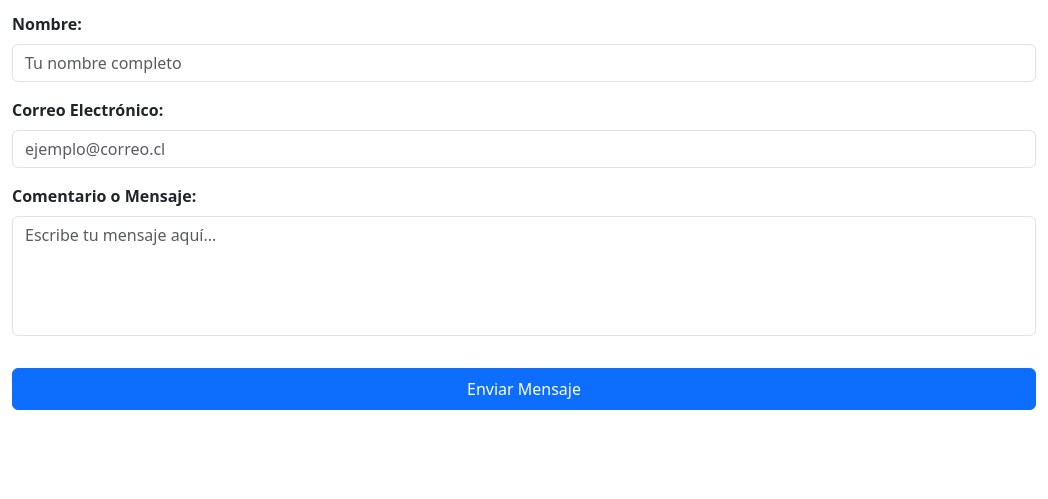
Test case: 10. FormularioContacto muestra error en pantalla si el correo está vacío al intentar enviar
The image size is (1048, 499).
Click the button "Enviar Mensaje" at (524,389), box 12,368 -> 1036,410
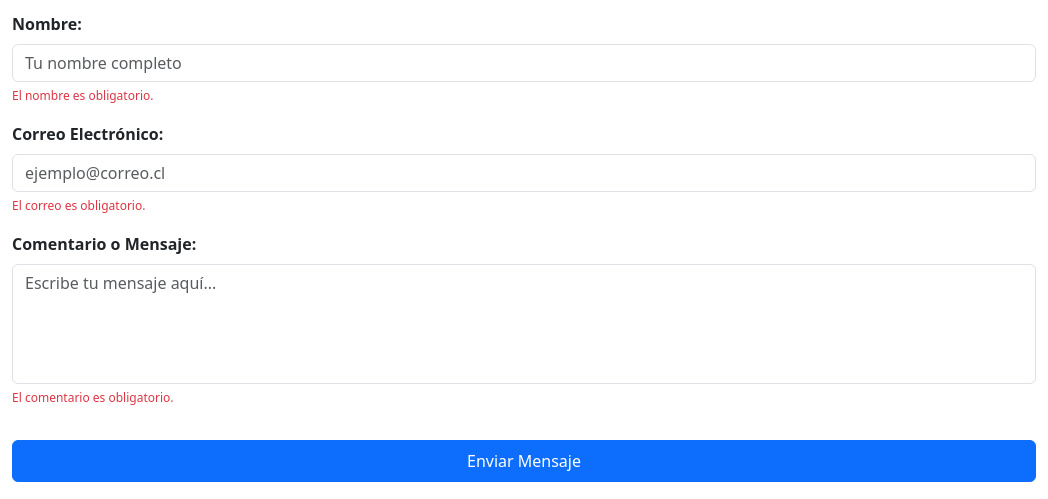
Now the text "El correo es obligatorio." is shown, box 12,197 -> 145,214
